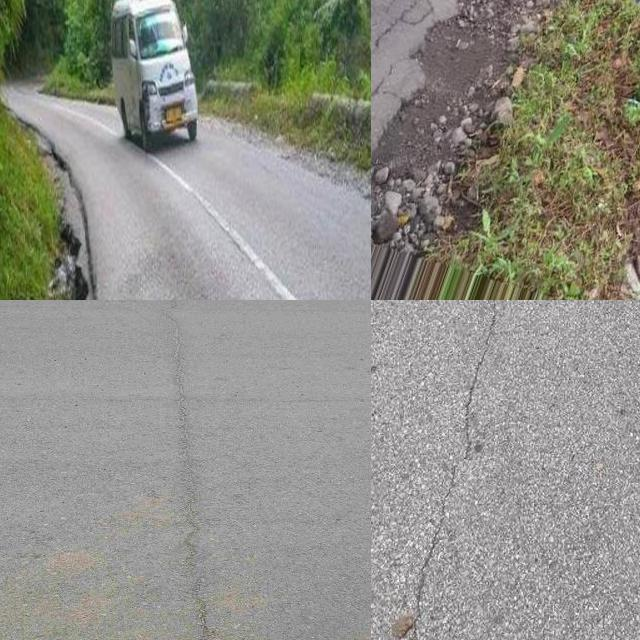Memanjang: (381, 300, 512, 640), (155, 300, 250, 640)
Pinggir: (371, 0, 573, 273), (24, 114, 126, 300)
